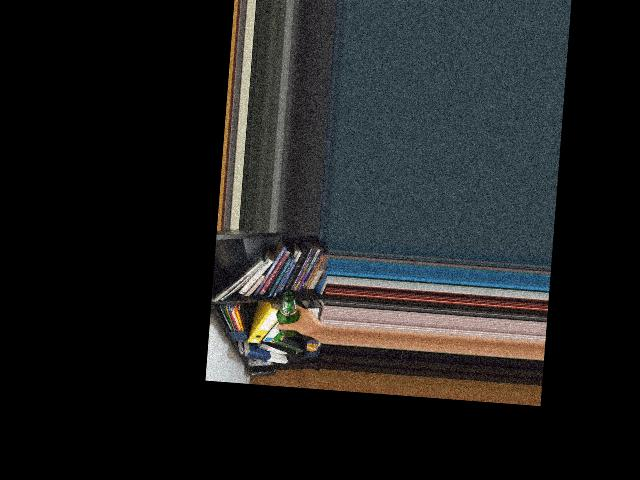beer: (275, 291, 301, 338)
